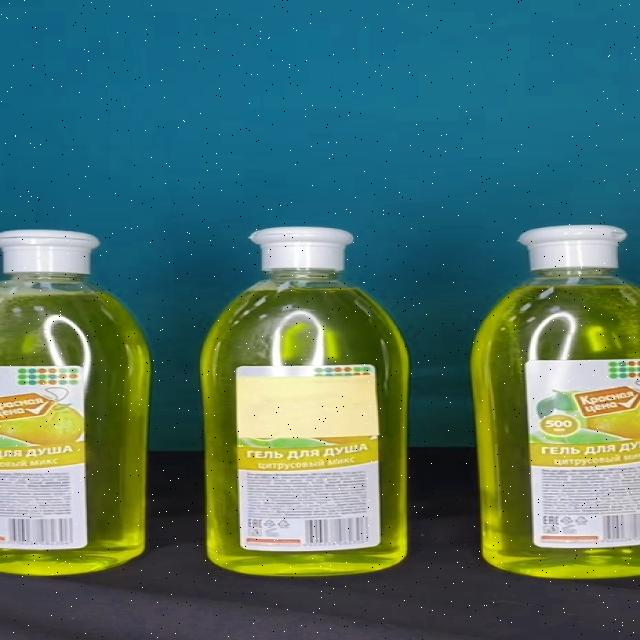Bottle: (202, 226, 410, 577), (471, 224, 640, 578)
Cap: (518, 225, 627, 269), (249, 226, 354, 268)
